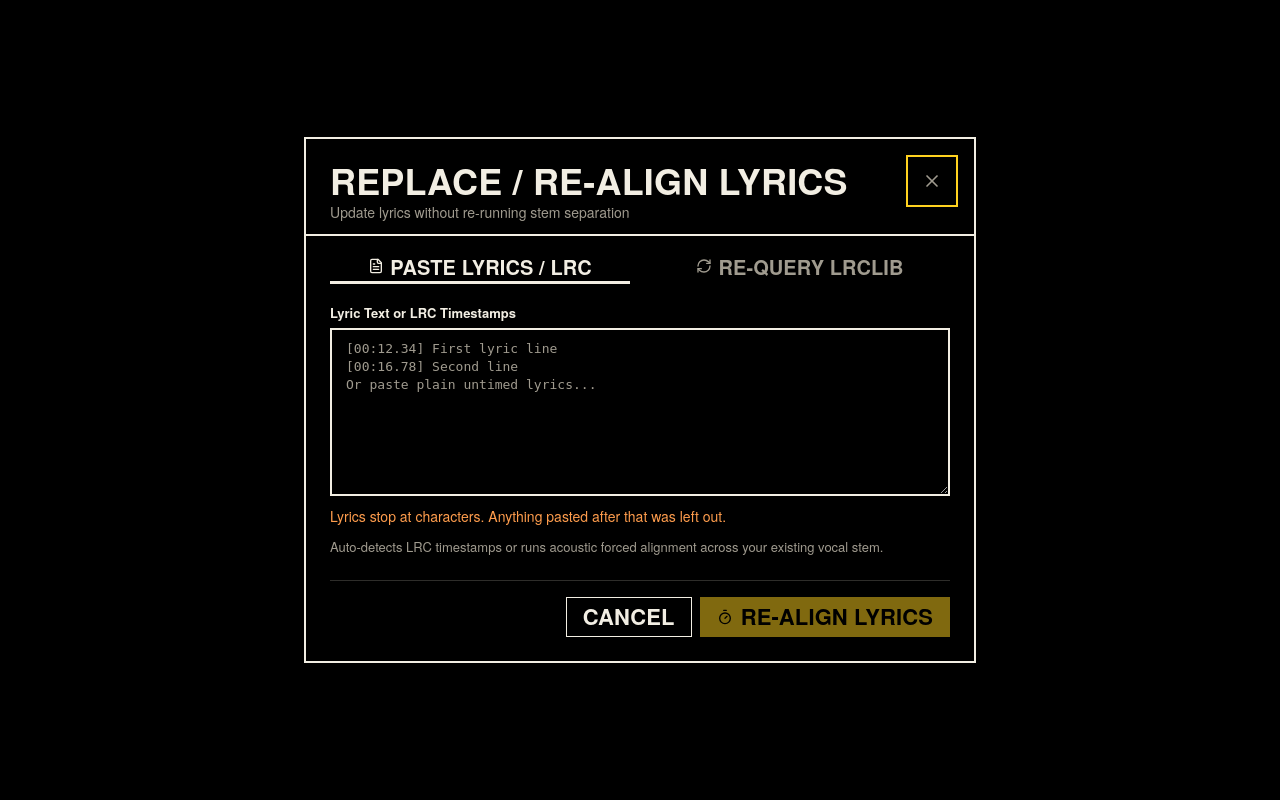
Scenario: Milestone 2: Word Snapping & Shift-Click Stepper in ExpandedWordEditor › handles candidate search returning empty results with error message
Click the button "Re-query LRCLIB". click: click(800, 268)
box: top-left (650, 252), bottom-right (950, 284)
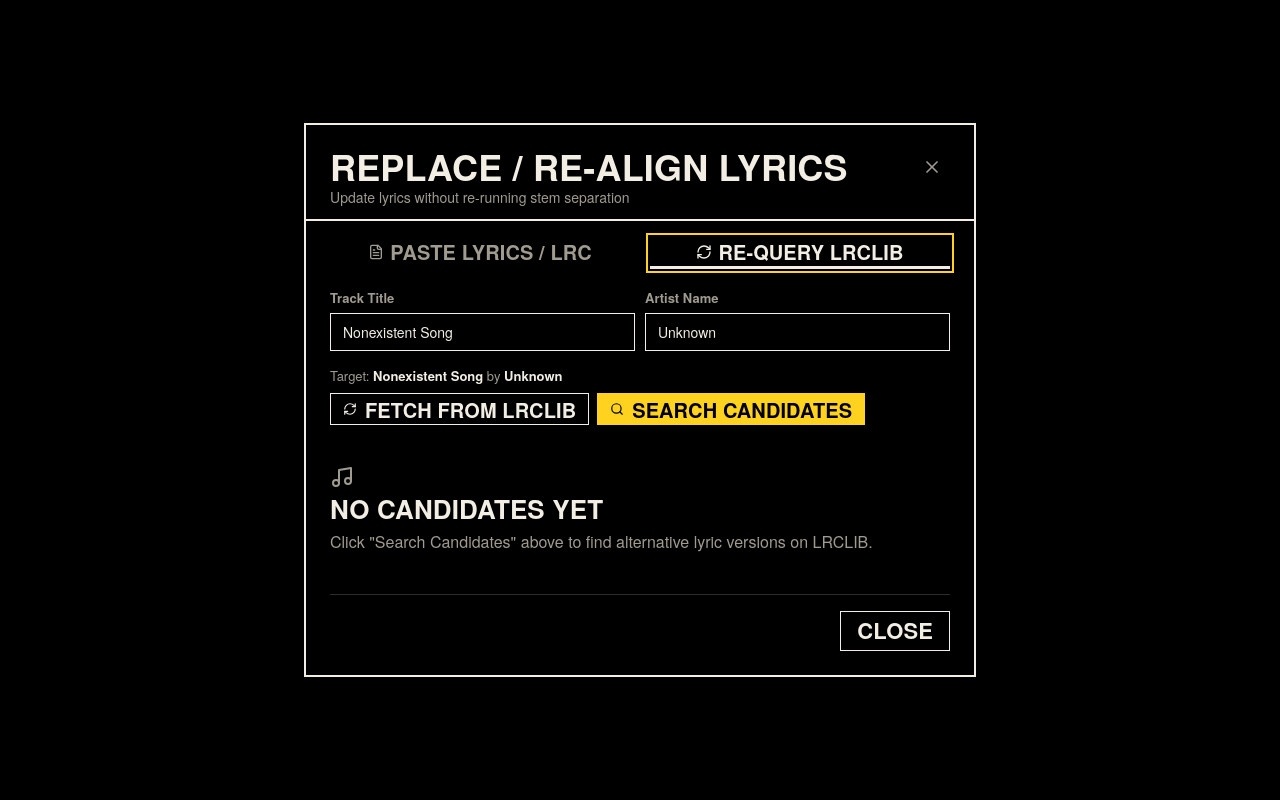
Click the button "Search Candidates". click: click(731, 409)
box: top-left (597, 393), bottom-right (865, 425)
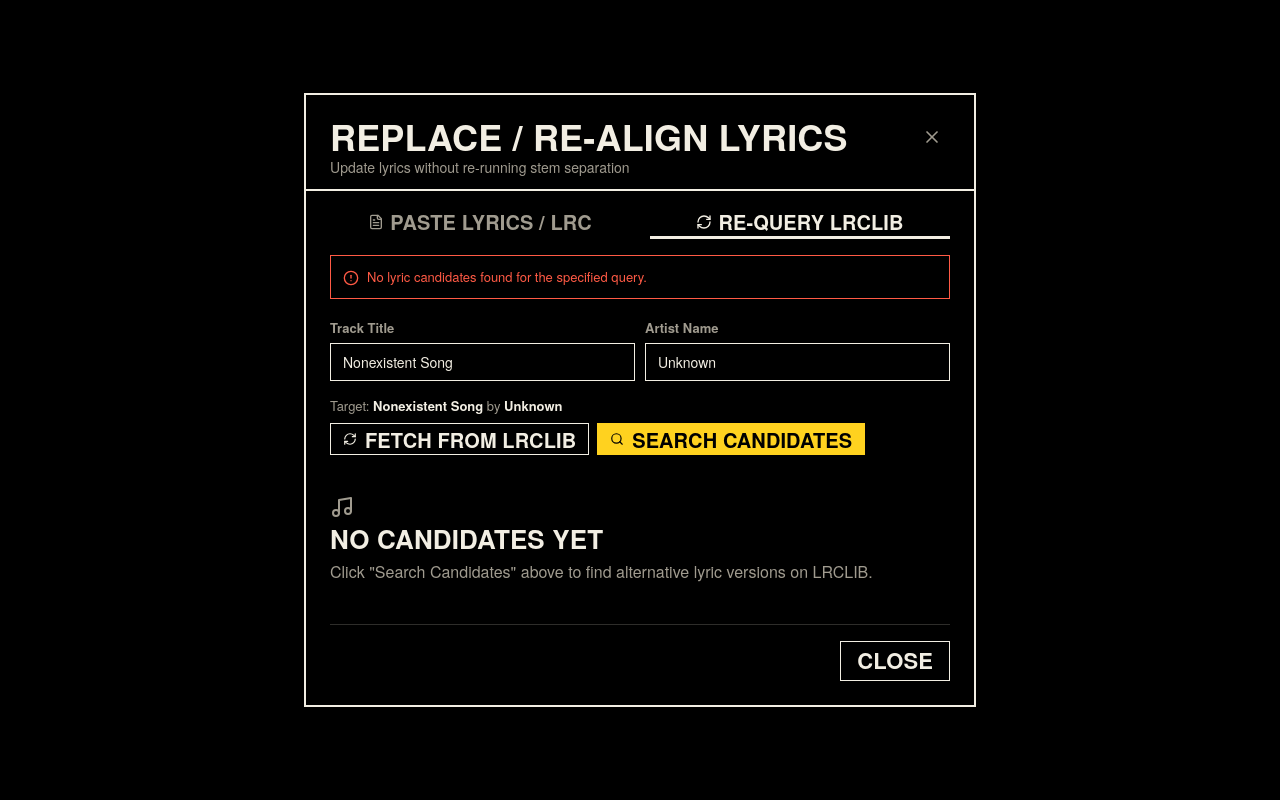
Check: the text "No lyric candidates found for the specified query." is shown, box top-left (367, 268), bottom-right (647, 286)
